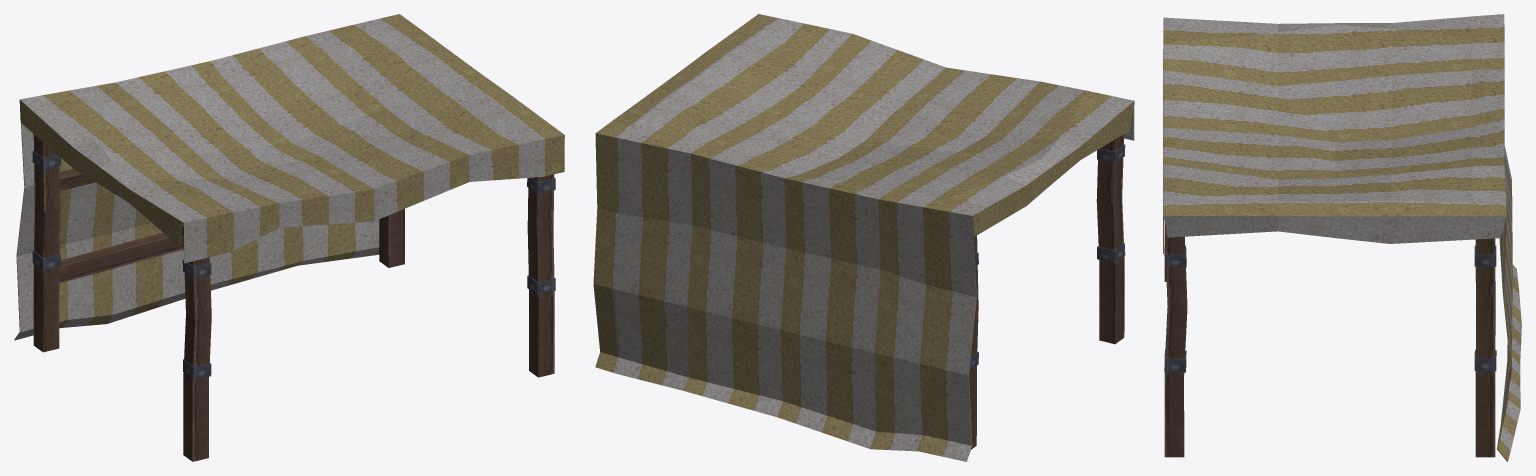
Rendered from market_stall_yelow.glb.
The picture shows the model from 3 angles, left to right: view 1: azimuth 30°, elevation 25°; view 2: azimuth 150°, elevation 25°; view 3: azimuth 270°, elevation 25°; orthographic projection. The views are drawn at different scales.
Visible parts, largest first — view 1: market_stall_yelow; view 2: market_stall_yelow; view 3: market_stall_yelow.
Part boxes in pixels (x1=…): market_stall_yelow: x1=14, y1=14, x2=564, y2=461; market_stall_yelow: x1=593, y1=14, x2=1134, y2=461; market_stall_yelow: x1=1163, y1=14, x2=1521, y2=461.
Bounding box in the file's own units: 4.42 × 2.81 × 3.46.
2 materials, 2 textured.
